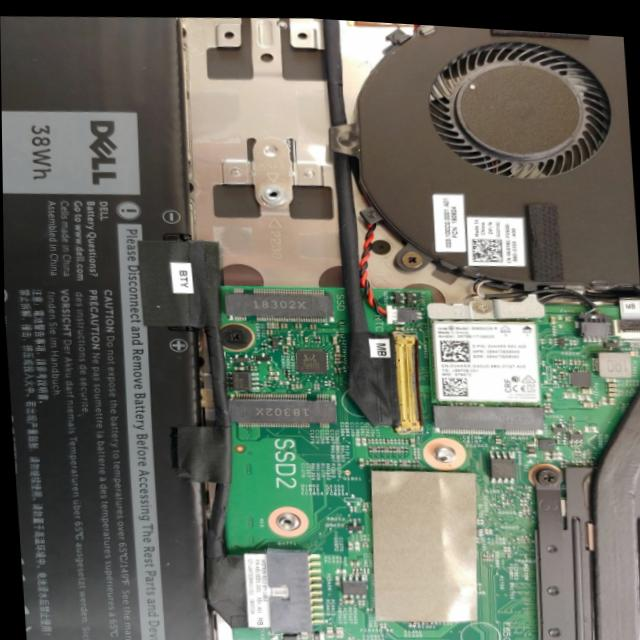datamatrix: (469, 232, 503, 260), (439, 333, 470, 359), (441, 372, 468, 393)
